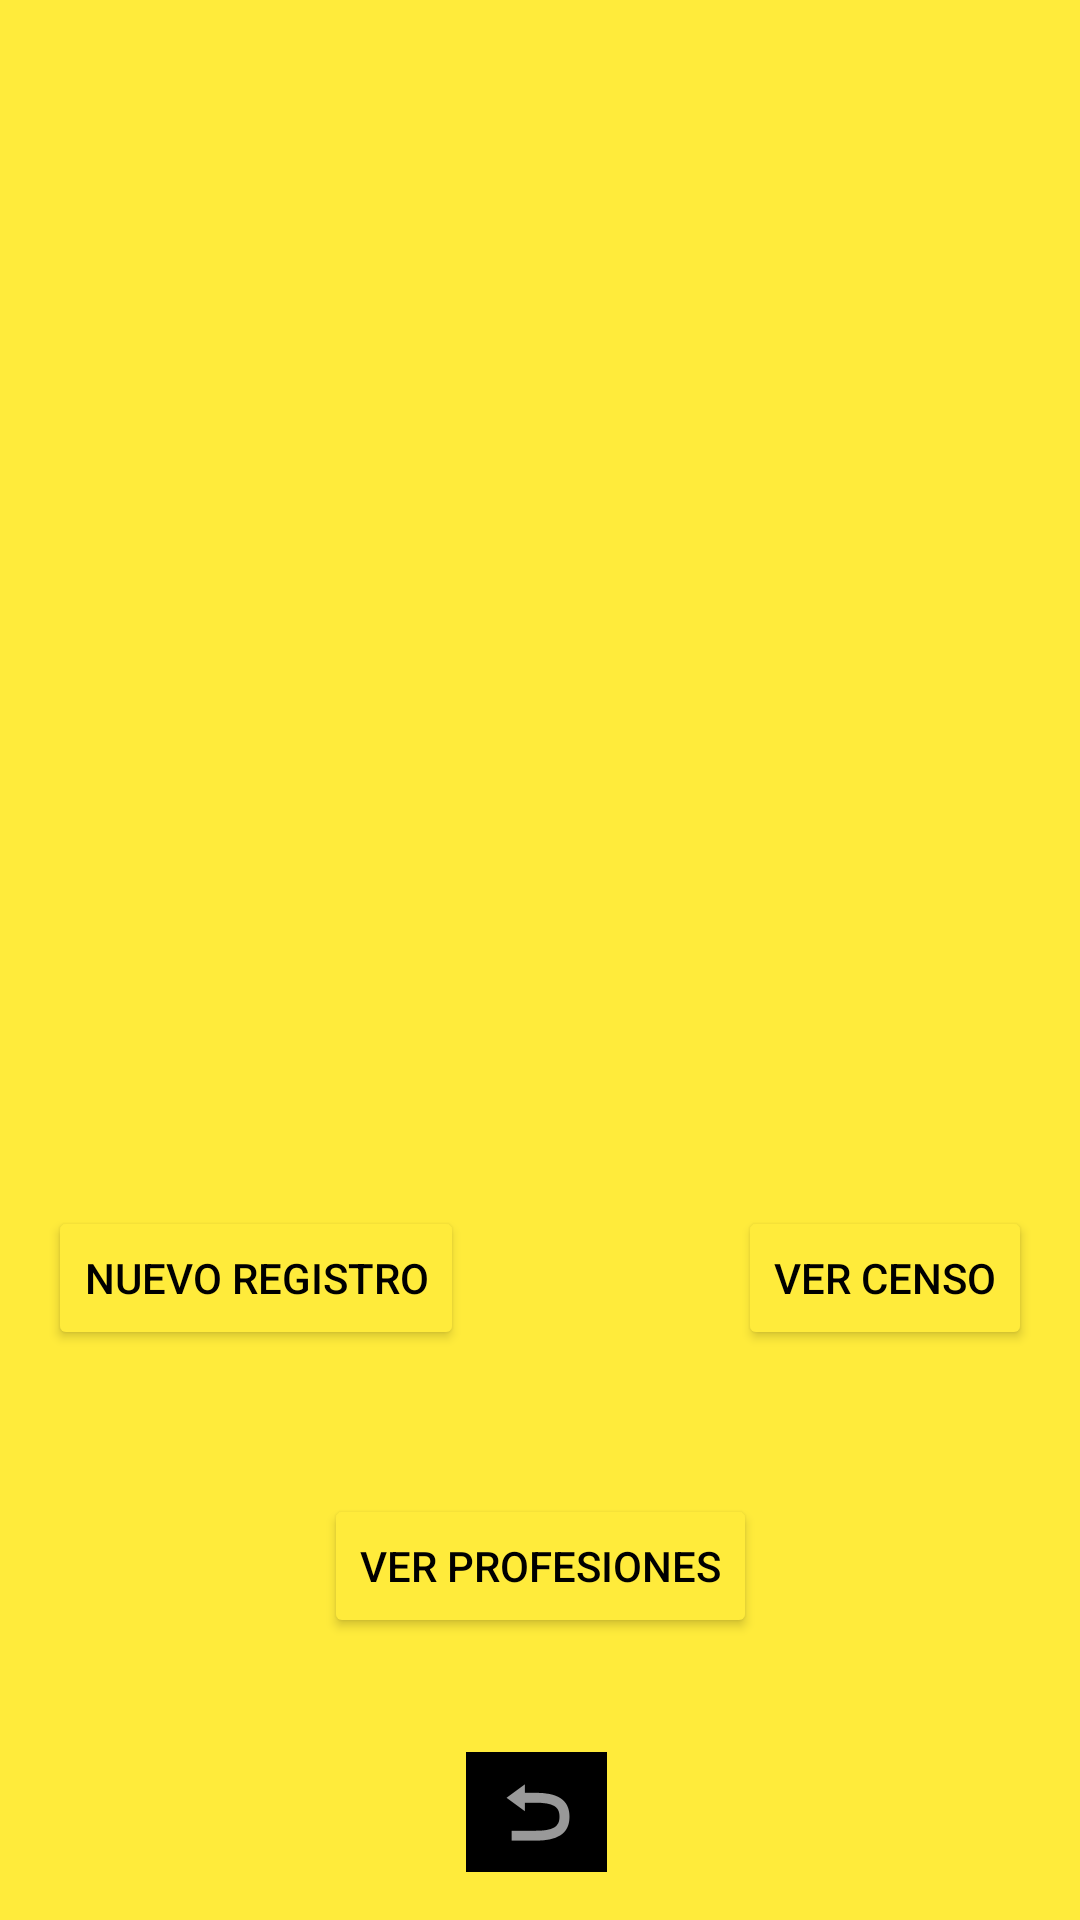

Point at icon controls on the screen. Image size 1080w x 1920h, points as (x,y).
revert: (536,1812)
